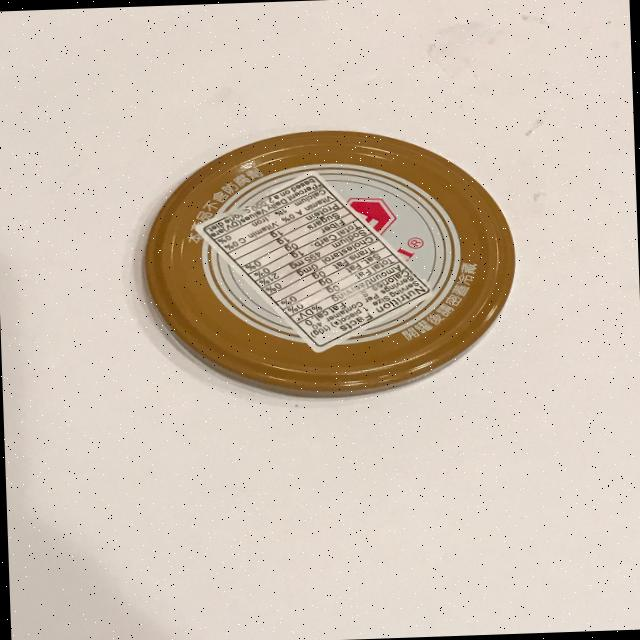metal: (137, 122, 520, 404)
